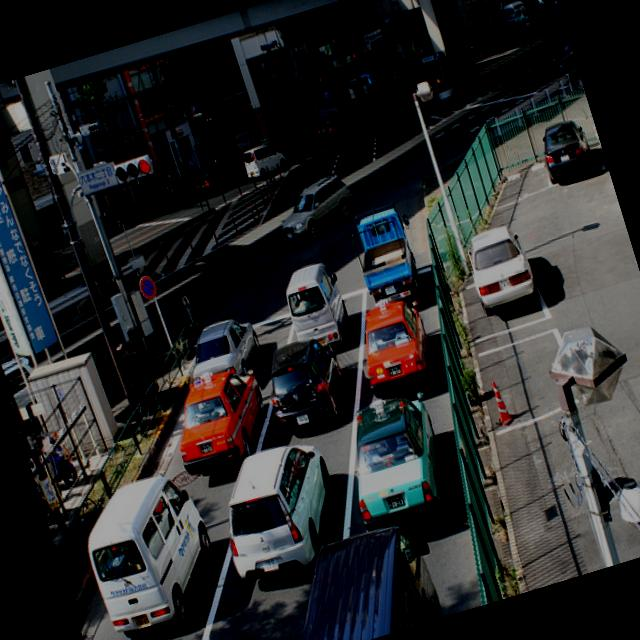Vehicle: (0, 0, 600, 419), (66, 456, 238, 640), (253, 512, 451, 640), (205, 434, 354, 588), (330, 386, 460, 544), (160, 358, 281, 479), (344, 198, 435, 324), (256, 332, 356, 437), (348, 293, 442, 404), (278, 258, 358, 362), (459, 220, 542, 318), (278, 259, 358, 360), (176, 309, 269, 391), (270, 170, 362, 246), (311, 66, 392, 128), (536, 114, 596, 181), (38, 433, 80, 492), (240, 139, 290, 184), (500, 0, 529, 26)
